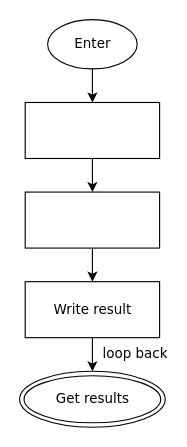
This 187x447 diagram has some shape labels left out. The centre of each missing label's shape, as x and y in pixels:
"Deep work" goes at (92,219).
"Dispatch" goes at (92,129).
